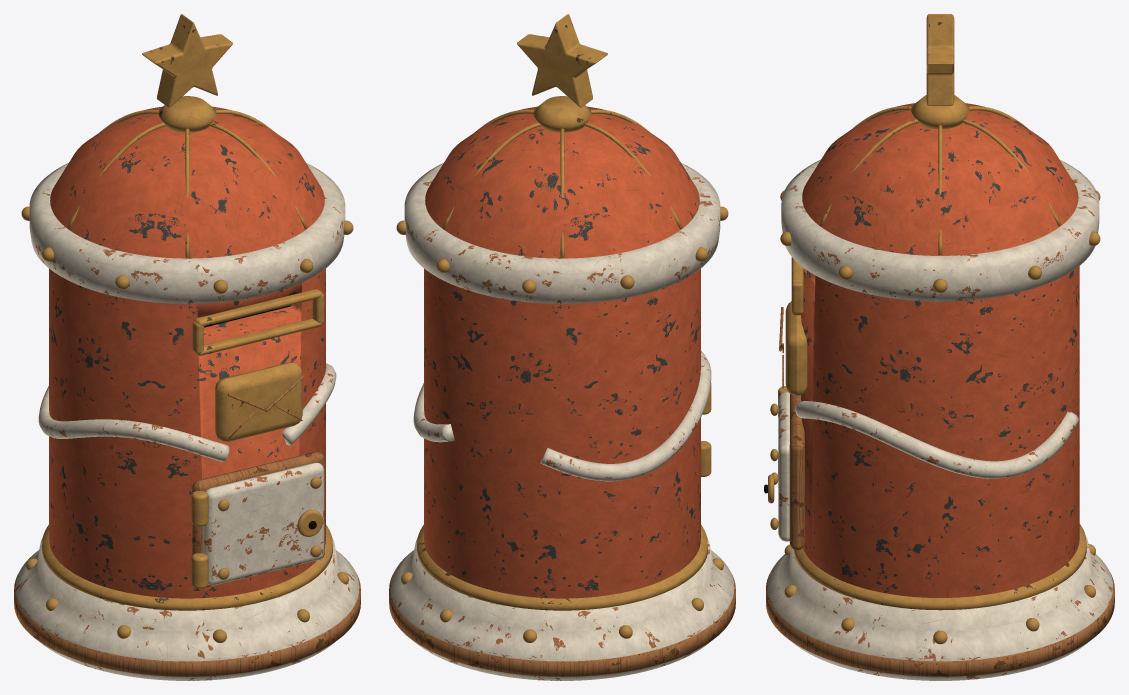
The model's file is S1_山口邮筒_分享包版.glb.
The picture shows the model from 3 angles, left to right: view 1: azimuth 30°, elevation 25°; view 2: azimuth 150°, elevation 25°; view 3: azimuth 270°, elevation 25°; orthographic projection.
Parts seen in each view (by area): view 1: Coral cylindrical pillar, Domed coral cap, Stepped enamel pedestal, Ivory cornice, Ivory access door, Dark foot rim, Envelope brass backing, Lower brass bead, Five point brass finial, Ivory side flourish, Access door shadow, Star mount (+5 smaller); view 2: Coral cylindrical pillar, Domed coral cap, Stepped enamel pedestal, Ivory cornice, Dark foot rim, Lower brass bead, Five point brass finial, Ivory side flourish, Star mount, Ivory side flourish.001; view 3: Coral cylindrical pillar, Domed coral cap, Stepped enamel pedestal, Ivory cornice, Dark foot rim, Ivory side flourish.001, Lower brass bead, Five point brass finial, Access door shadow, Envelope brass backing, Ivory access door, Star mount.
Boxes of the visible parts, <box> form: Coral cylindrical pillar: <box>49,268,325,598</box>; Domed coral cap: <box>50,106,324,258</box>; Stepped enamel pedestal: <box>15,537,359,680</box>; Ivory cornice: <box>29,163,345,303</box>; Ivory access door: <box>203,462,324,585</box>; Dark foot rim: <box>14,574,360,676</box>; Envelope brass backing: <box>215,362,302,441</box>; Lower brass bead: <box>42,525,332,610</box>; Five point brass finial: <box>142,14,232,107</box>; Ivory side flourish: <box>38,386,229,461</box>; Access door shadow: <box>192,451,324,587</box>; Star mount: <box>158,96,216,132</box>; Coral cylindrical pillar: <box>424,268,700,598</box>; Domed coral cap: <box>425,106,699,258</box>; Stepped enamel pedestal: <box>390,537,734,680</box>; Ivory cornice: <box>404,163,720,303</box>; Dark foot rim: <box>389,574,735,676</box>; Lower brass bead: <box>417,525,707,610</box>; Five point brass finial: <box>517,14,607,107</box>; Ivory side flourish: <box>540,351,711,481</box>; Star mount: <box>533,96,591,132</box>; Ivory side flourish.001: <box>413,383,454,442</box>; Coral cylindrical pillar: <box>801,266,1079,597</box>; Domed coral cap: <box>802,103,1078,255</box>; Stepped enamel pedestal: <box>767,536,1112,680</box>; Ivory cornice: <box>781,159,1099,301</box>; Dark foot rim: <box>766,572,1114,676</box>; Ivory side flourish.001: <box>795,401,1078,478</box>; Lower brass bead: <box>794,524,1086,610</box>; Five point brass finial: <box>926,14,954,105</box>; Access door shadow: <box>789,394,804,550</box>; Envelope brass backing: <box>785,301,807,395</box>; Ivory access door: <box>778,392,789,541</box>; Star mount: <box>911,95,969,128</box>.
Bounding box in the file's own units: 1.01 × 1.91 × 1.02.
Materials: 5 (5 with a texture image).
